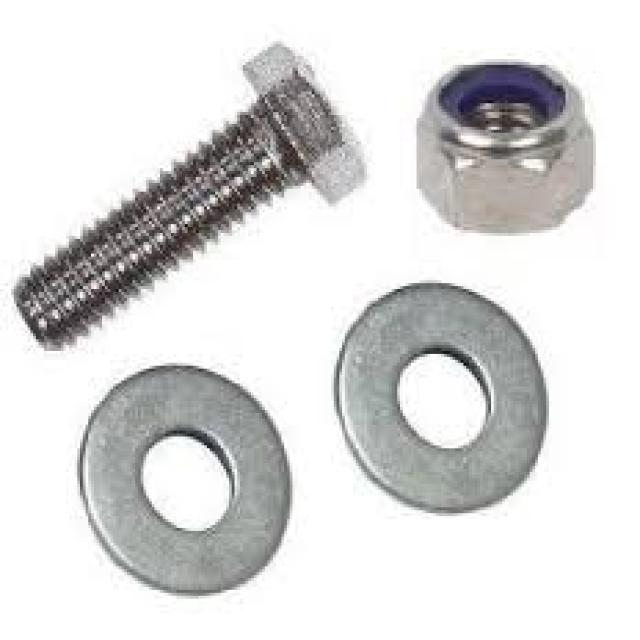metal: (8, 38, 364, 348), (331, 280, 546, 510), (75, 363, 290, 593), (414, 56, 593, 233)
